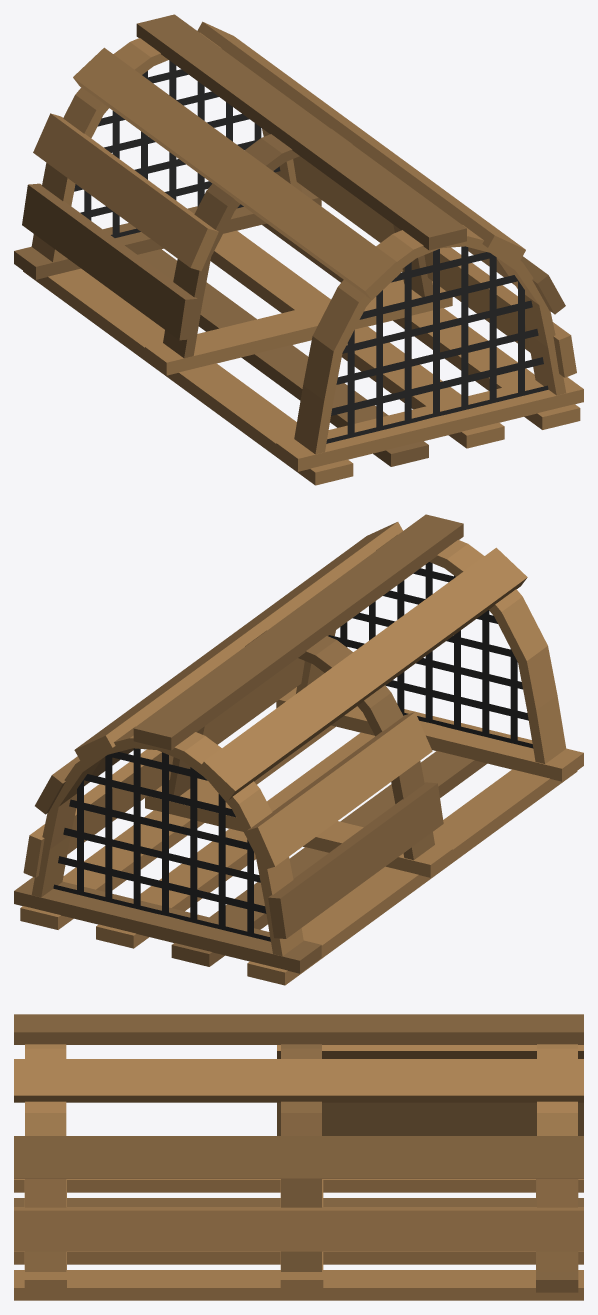
The model's file is trap.glb.
3 views of the same model, one above another, from view 1: azimuth 30°, elevation 25°; view 2: azimuth 150°, elevation 25°; view 3: azimuth 270°, elevation 25° (orthographic). The views are drawn at different scales.
Parts seen in each view (by area): view 1: trap.001; view 2: trap.001; view 3: trap.001.
Boxes of the visible parts, box(x1,y1,x2,y2) form: trap.001: box(14, 14, 583, 485); trap.001: box(14, 514, 583, 985); trap.001: box(14, 1014, 583, 1300).
Bounding box in the file's own units: 0.6011 × 0.4424 × 1.06.
